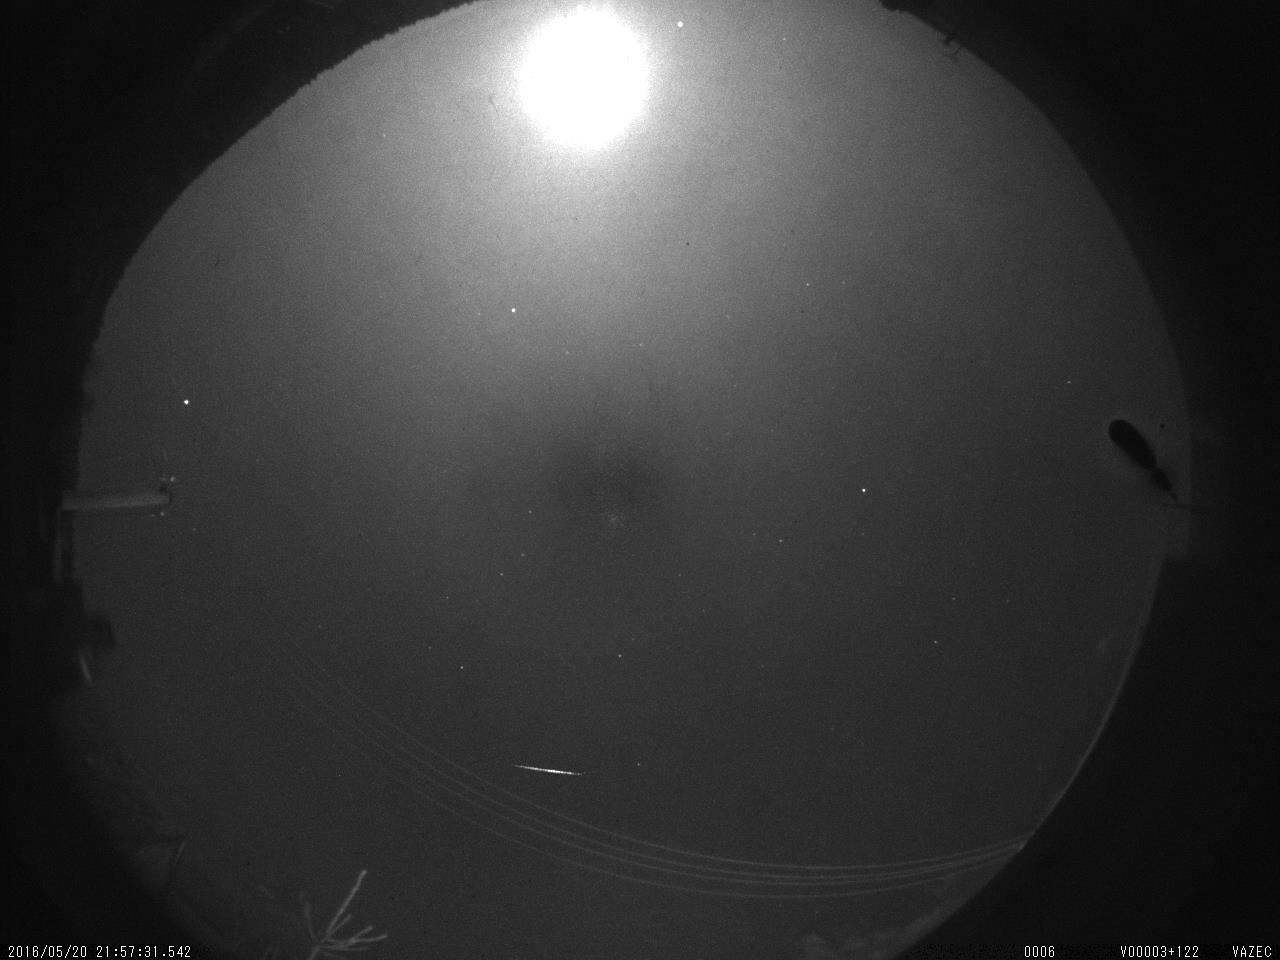meteor: (526, 721, 594, 822)
